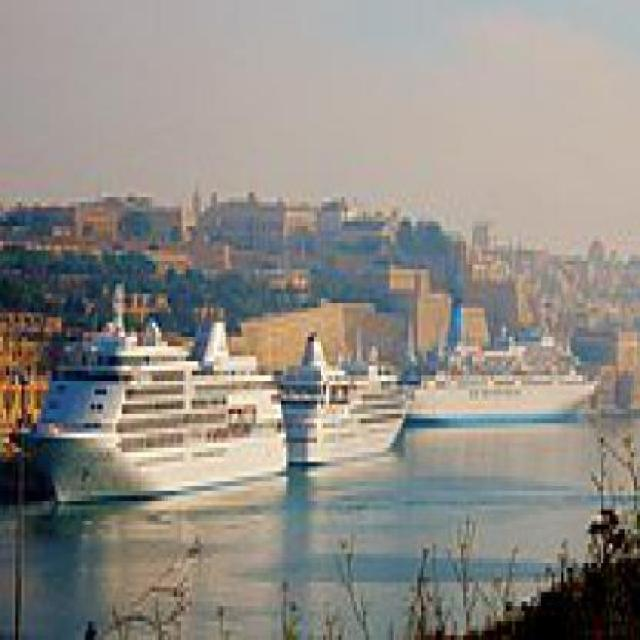cruise: (17, 289, 300, 531)
